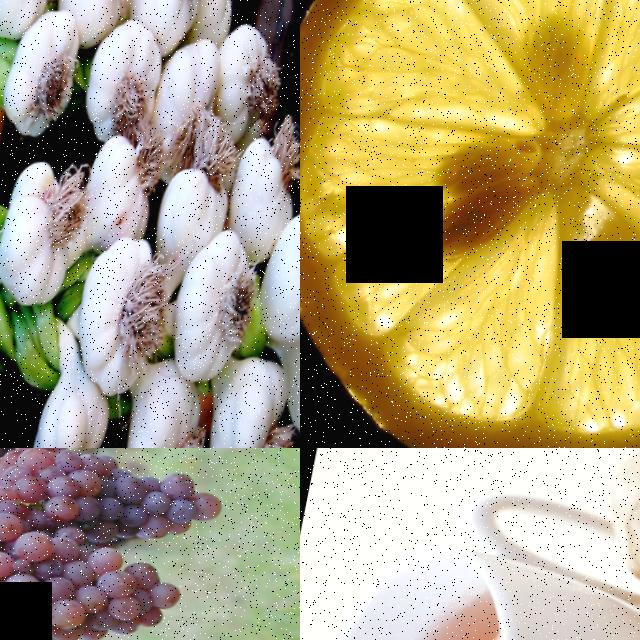garlic: (65, 232, 172, 391), (165, 233, 263, 393), (0, 155, 89, 314), (75, 22, 167, 151), (143, 38, 224, 180), (215, 139, 300, 268), (0, 13, 82, 146), (206, 16, 284, 148), (198, 357, 293, 448), (21, 370, 116, 448), (109, 373, 207, 448), (249, 220, 300, 361), (52, 0, 133, 38), (0, 0, 56, 42)
grapes: (0, 448, 230, 571), (0, 495, 190, 640)
lemon: (300, 0, 640, 448)
